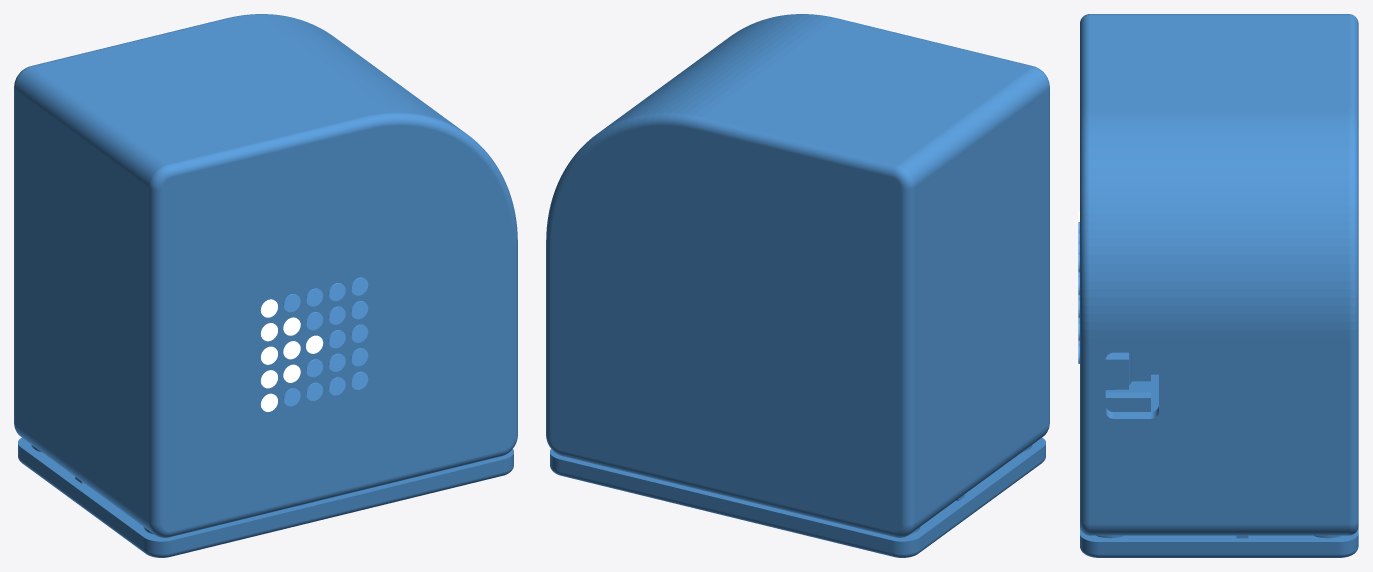
File: microbit_cube.glb
3 renders of one model, left to right at view 1: azimuth 30°, elevation 25°; view 2: azimuth 150°, elevation 25°; view 3: azimuth 270°, elevation 25°, orthographic. The views are drawn at different scales.
Parts seen in each view (by area): view 1: shell, base, led_off, led_on; view 2: shell, base; view 3: shell, base.
Part boxes in pixels (left/top/right/bottom): shell: left=14, top=14, right=517, bottom=537; base: left=18, top=437, right=513, bottom=557; led_off: left=283, top=277, right=368, bottom=406; led_on: left=260, top=299, right=323, bottom=411; shell: left=546, top=14, right=1049, bottom=537; base: left=550, top=437, right=1045, bottom=557; shell: left=1080, top=14, right=1358, bottom=538; base: left=1080, top=374, right=1358, bottom=557.
Size of the model in its own units: 62 by 63 by 42.22.
